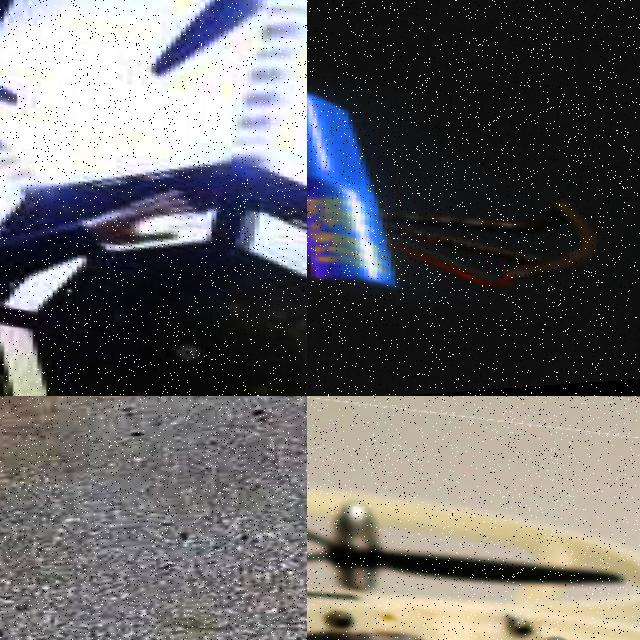drone: (307, 0, 640, 396), (0, 0, 307, 396), (307, 396, 640, 640)
